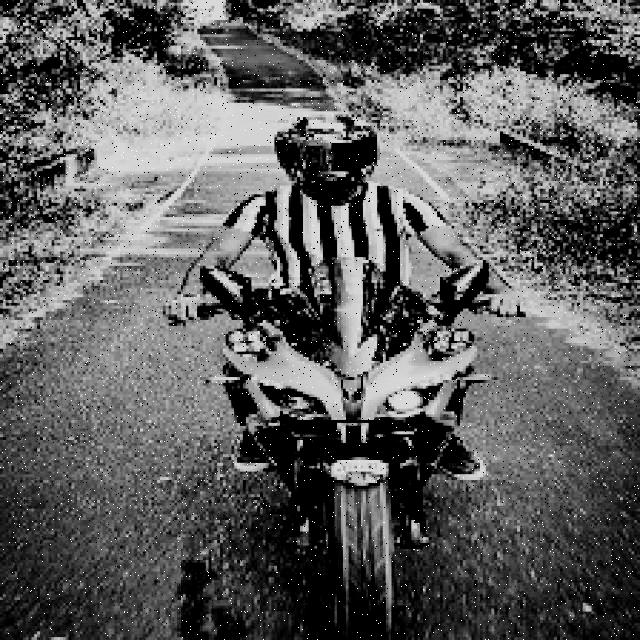Bike: (212, 275, 512, 637)
